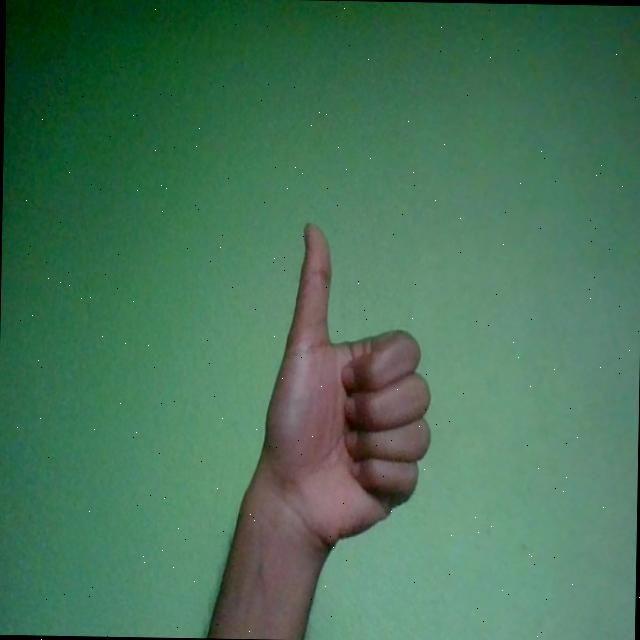Good Job: (262, 220, 436, 560)
